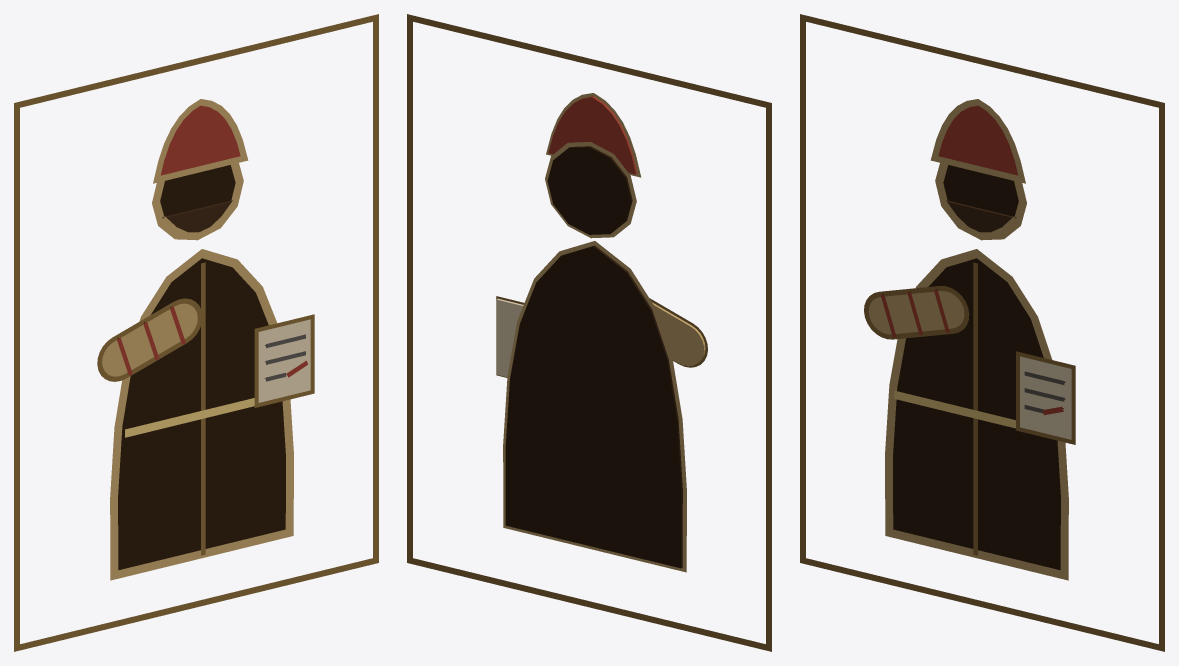
Rendered from npc-kupets-ovanes.glb.
3 renders of one model, left to right at view 1: azimuth 30°, elevation 25°; view 2: azimuth 150°, elevation 25°; view 3: azimuth 330°, elevation 25°, orthographic.
Visible parts, largest first — view 1: npc-kupets-ovanes; view 2: npc-kupets-ovanes; view 3: npc-kupets-ovanes.
Boxes of the visible parts, left/top/right/bottom form: npc-kupets-ovanes: left=14, top=14, right=378, bottom=651; npc-kupets-ovanes: left=407, top=14, right=771, bottom=651; npc-kupets-ovanes: left=800, top=14, right=1164, bottom=651.
Size of the model in its own units: 1.14 by 1.64 by 0.0829.
